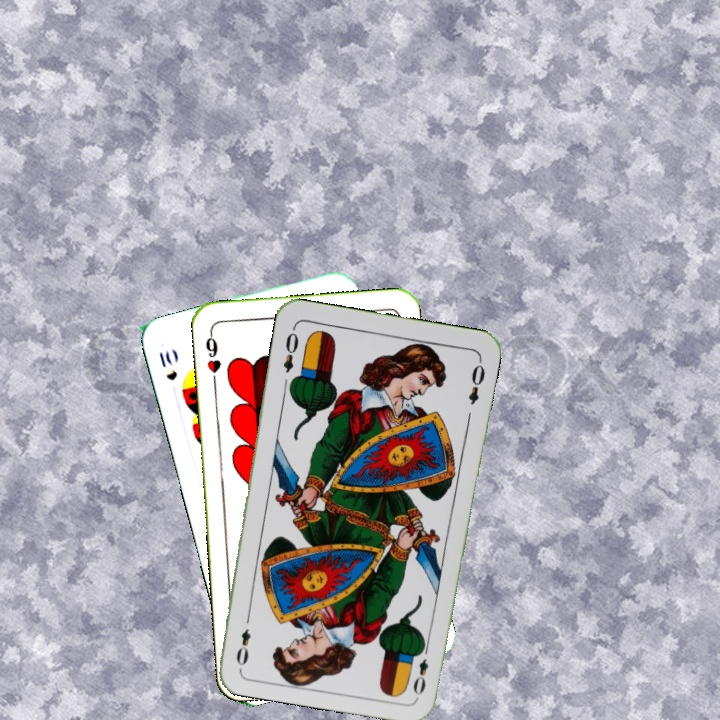EO: (409, 640, 432, 698), (279, 323, 301, 375)
H9: (201, 326, 224, 385)
S10: (155, 347, 180, 383)
